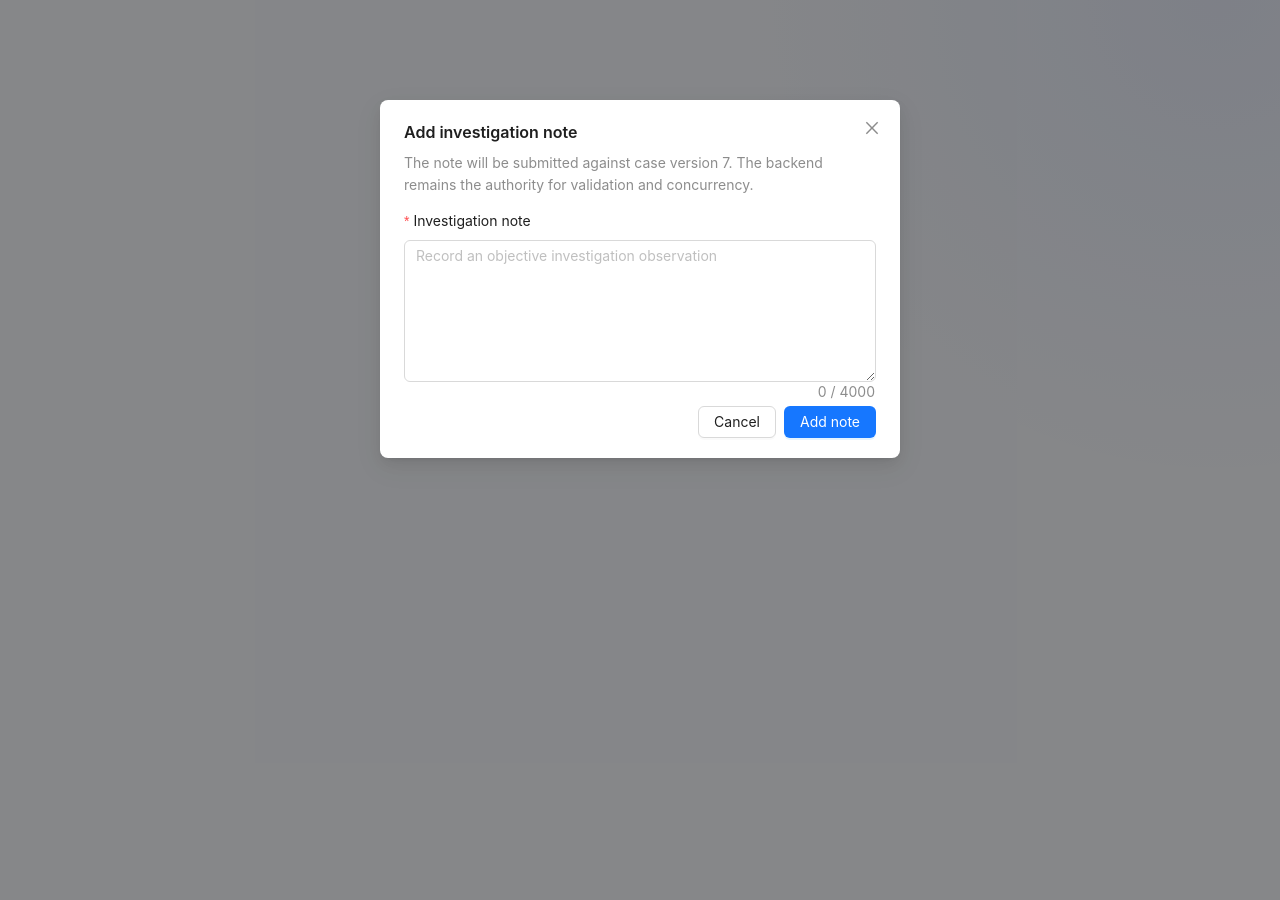
it: AddNoteDialog › keeps an empty note client-side while the backend remains authoritative
The image size is (1280, 900).
Click the button "Add note".
click(830, 422)  # box [784,406,876,438]
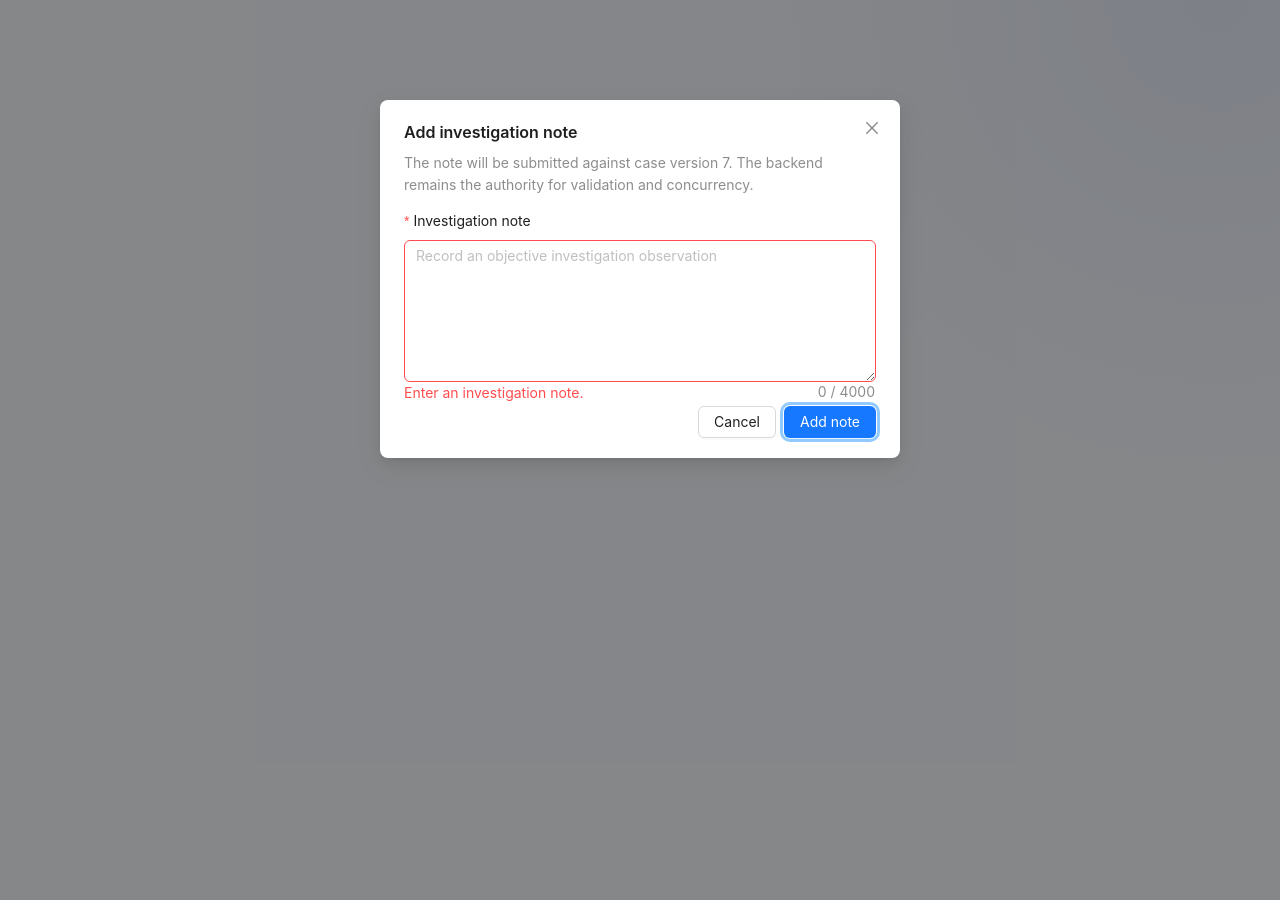
Expected: the text "Enter an investigation note." is shown, [404,384,584,401]
